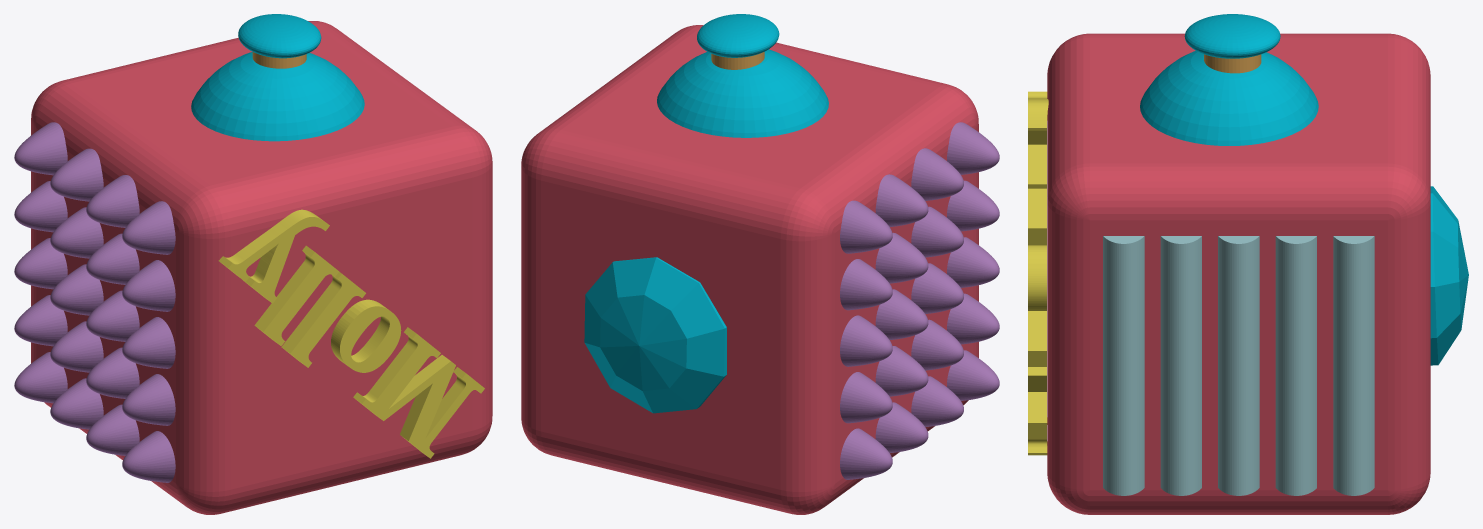
The model's file is Molly D Dreamy Trio.glb.
3 renders of one model, left to right at view 1: azimuth 30°, elevation 25°; view 2: azimuth 150°, elevation 25°; view 3: azimuth 270°, elevation 25°, orthographic. The views are drawn at different scales.
Visible parts, largest first — view 1: Mesh_Mesh_head_geo.001_lambert2SG.001; view 2: Mesh_Mesh_head_geo.001_lambert2SG.001; view 3: Mesh_Mesh_head_geo.001_lambert2SG.001.
Boxes of the visible parts, left/top/right/bottom form: Mesh_Mesh_head_geo.001_lambert2SG.001: left=14, top=14, right=492, bottom=514; Mesh_Mesh_head_geo.001_lambert2SG.001: left=521, top=14, right=999, bottom=514; Mesh_Mesh_head_geo.001_lambert2SG.001: left=1028, top=14, right=1468, bottom=514.
Size of the model in its own units: 0.047 by 0.05 by 0.046.
